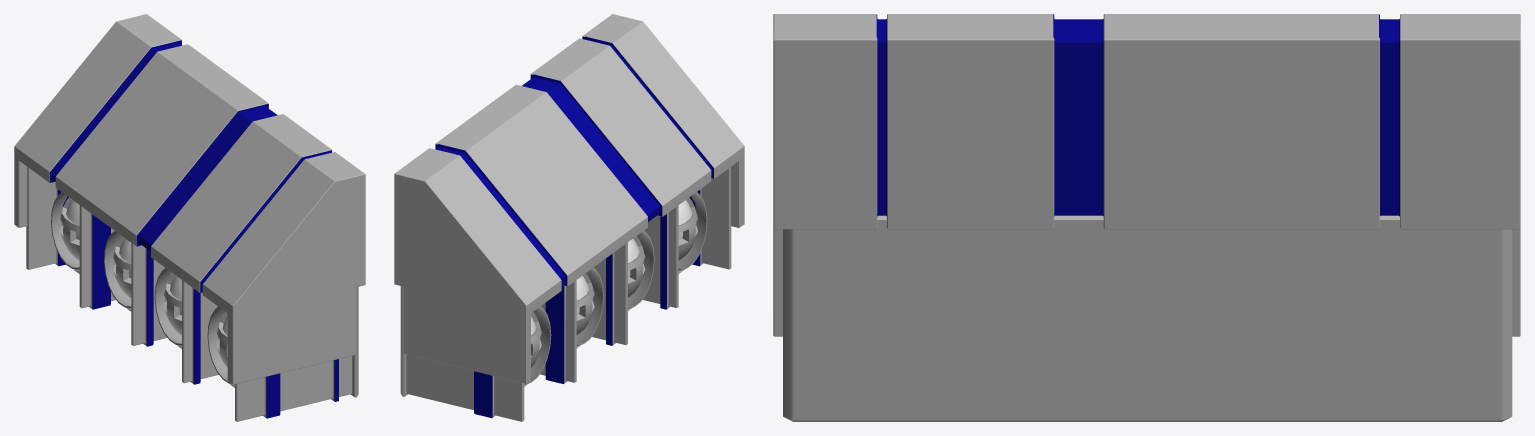
The model's file is sebastiandeBedout_CabinasdeDescanso.fbx.
3 renders of one model, left to right at view 1: azimuth 30°, elevation 25°; view 2: azimuth 150°, elevation 25°; view 3: azimuth 270°, elevation 25°, orthographic. The views are drawn at different scales.
Visible parts, largest first — view 1: pSphere5; view 2: pSphere5; view 3: pSphere5.
Boxes of the visible parts, x1,y1,x2,y2 form: pSphere5: [14, 14, 365, 421]; pSphere5: [394, 14, 744, 421]; pSphere5: [773, 14, 1520, 421].
Bounding box in the file's own units: 5.36 × 8.69 × 15.3.
